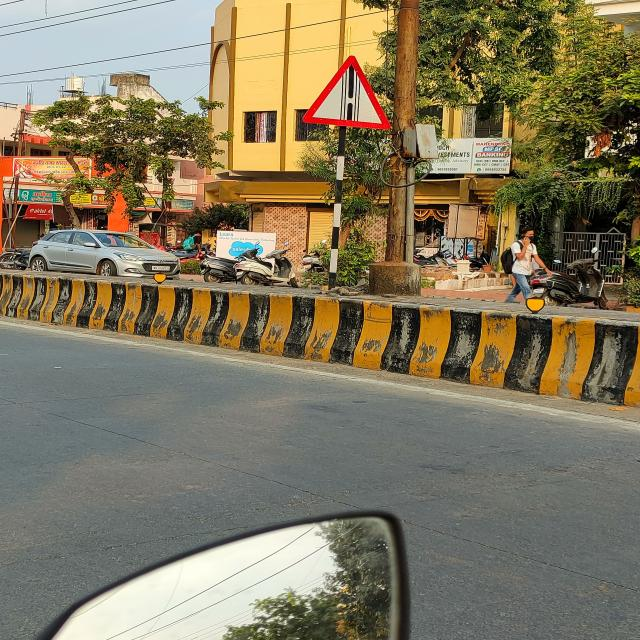ferry: (302, 54, 393, 126)
